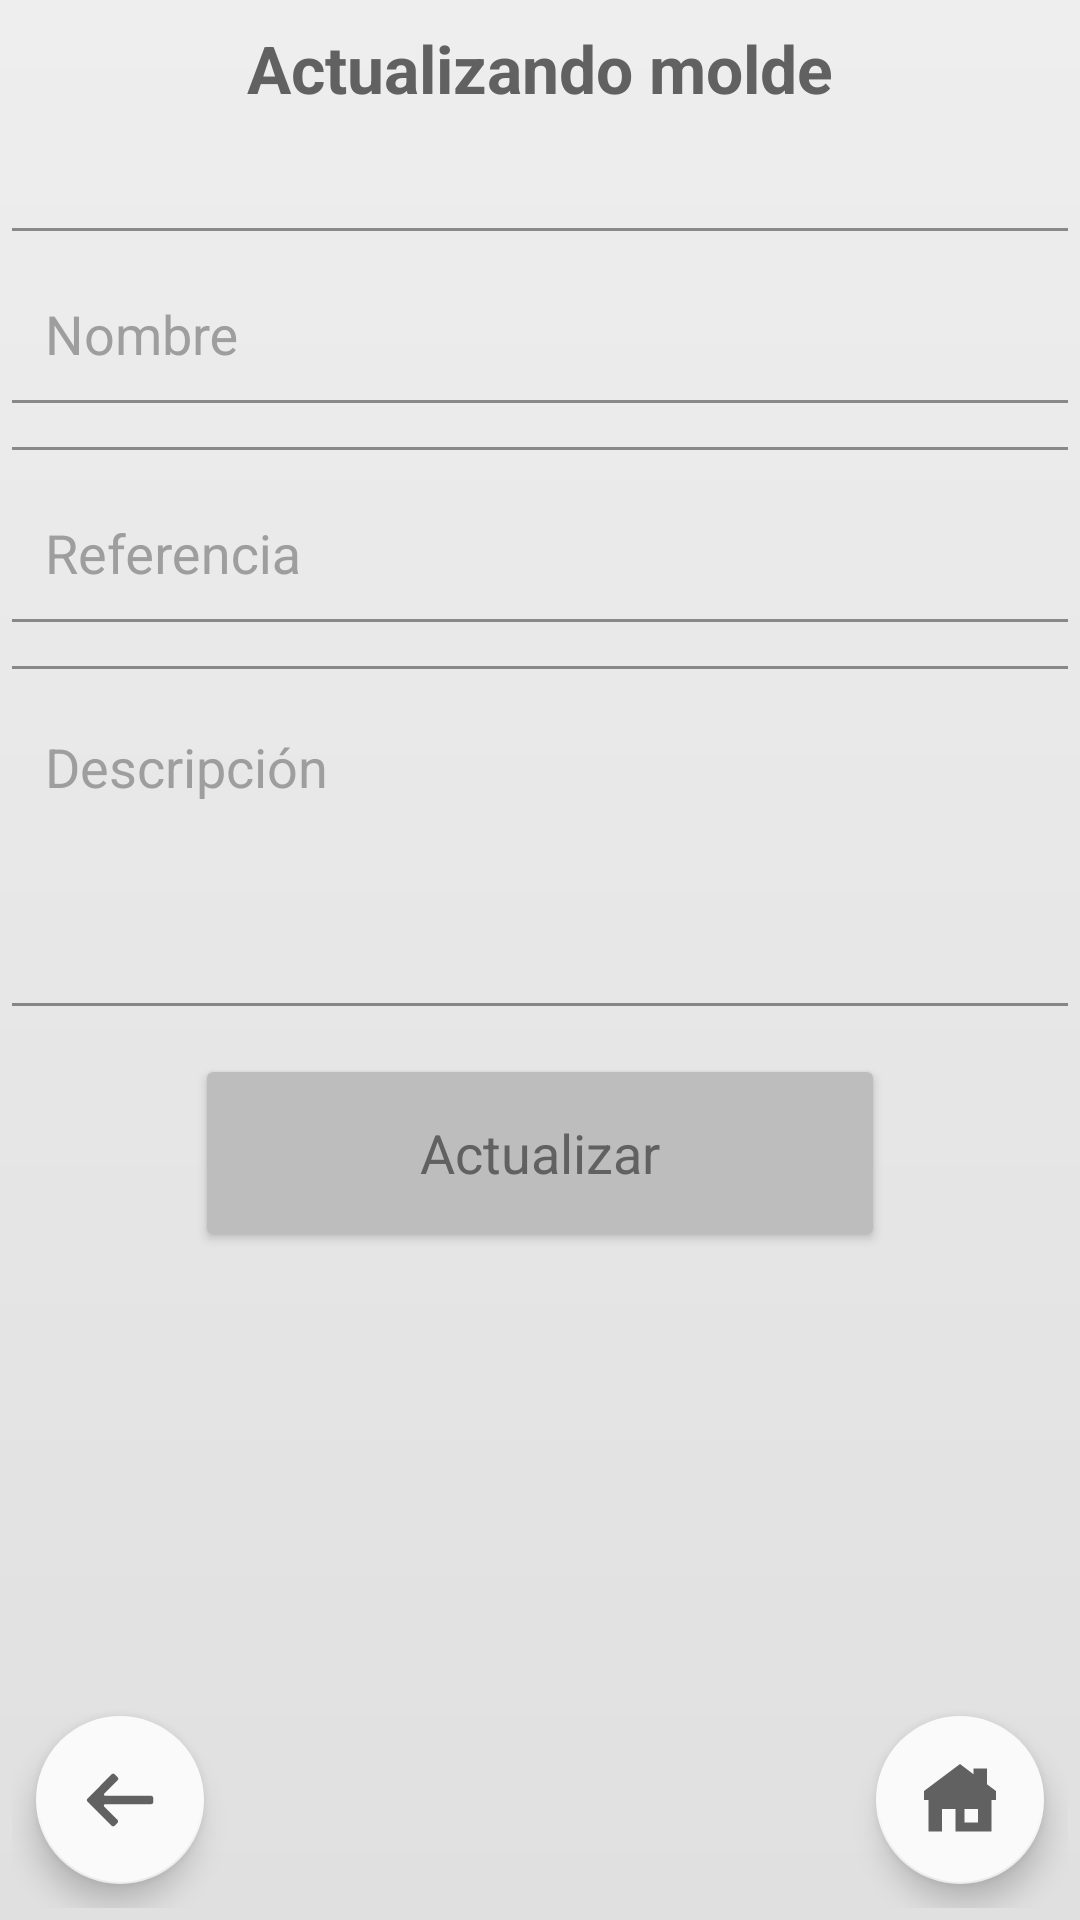

Locate icon controls on the screen. Image size 1080 x 1920, boxes as box(x1, y1, x2, y2).
Fab nav atrás: box(36, 1716, 203, 1884)
Fab nav home: box(876, 1716, 1043, 1882)
